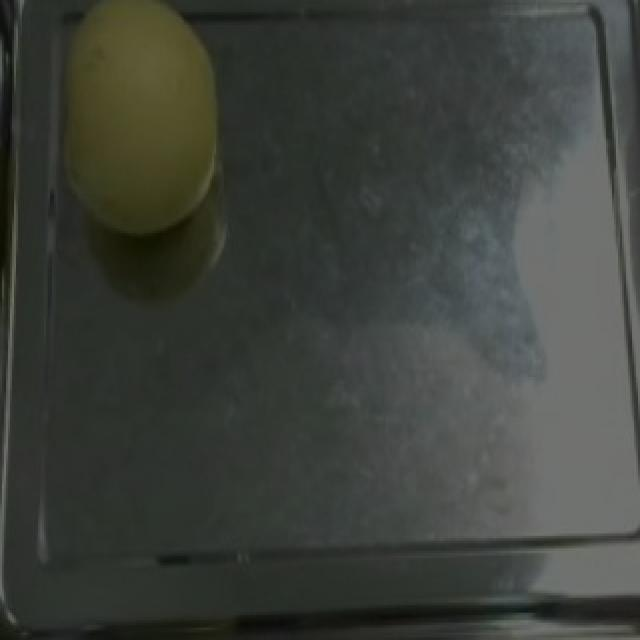Fruit: (34, 0, 234, 248)
